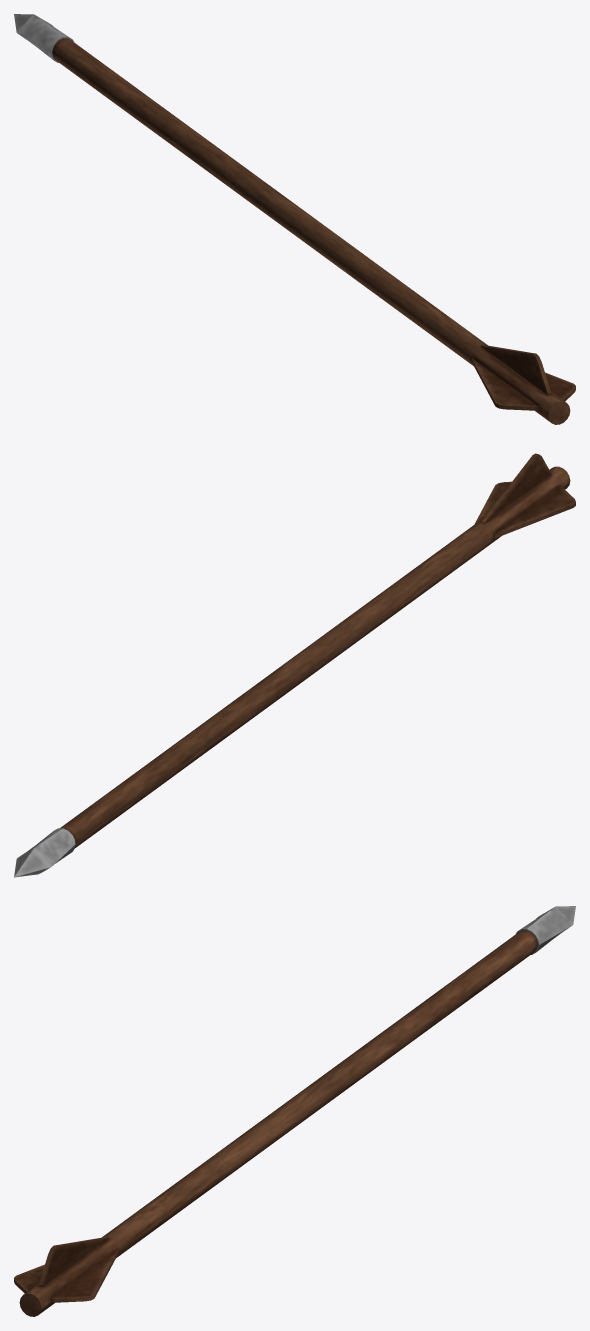
The model's file is VIROTE_BALLESTA.glb.
3 views of the same model, one above another, from view 1: azimuth 30°, elevation 25°; view 2: azimuth 150°, elevation 25°; view 3: azimuth 330°, elevation 25° (orthographic).
Parts seen in each view (by area): view 1: Crossbow Bolt 10 inch; view 2: Crossbow Bolt 10 inch; view 3: Crossbow Bolt 10 inch.
Part boxes in pixels (box(x1,y1,x2,y2)): Crossbow Bolt 10 inch: box(14, 14, 575, 424); Crossbow Bolt 10 inch: box(14, 453, 575, 877); Crossbow Bolt 10 inch: box(14, 906, 575, 1316).
Size of the model in its own units: 0.0232 by 0.0152 by 0.2793.
1 material, 1 textured.
